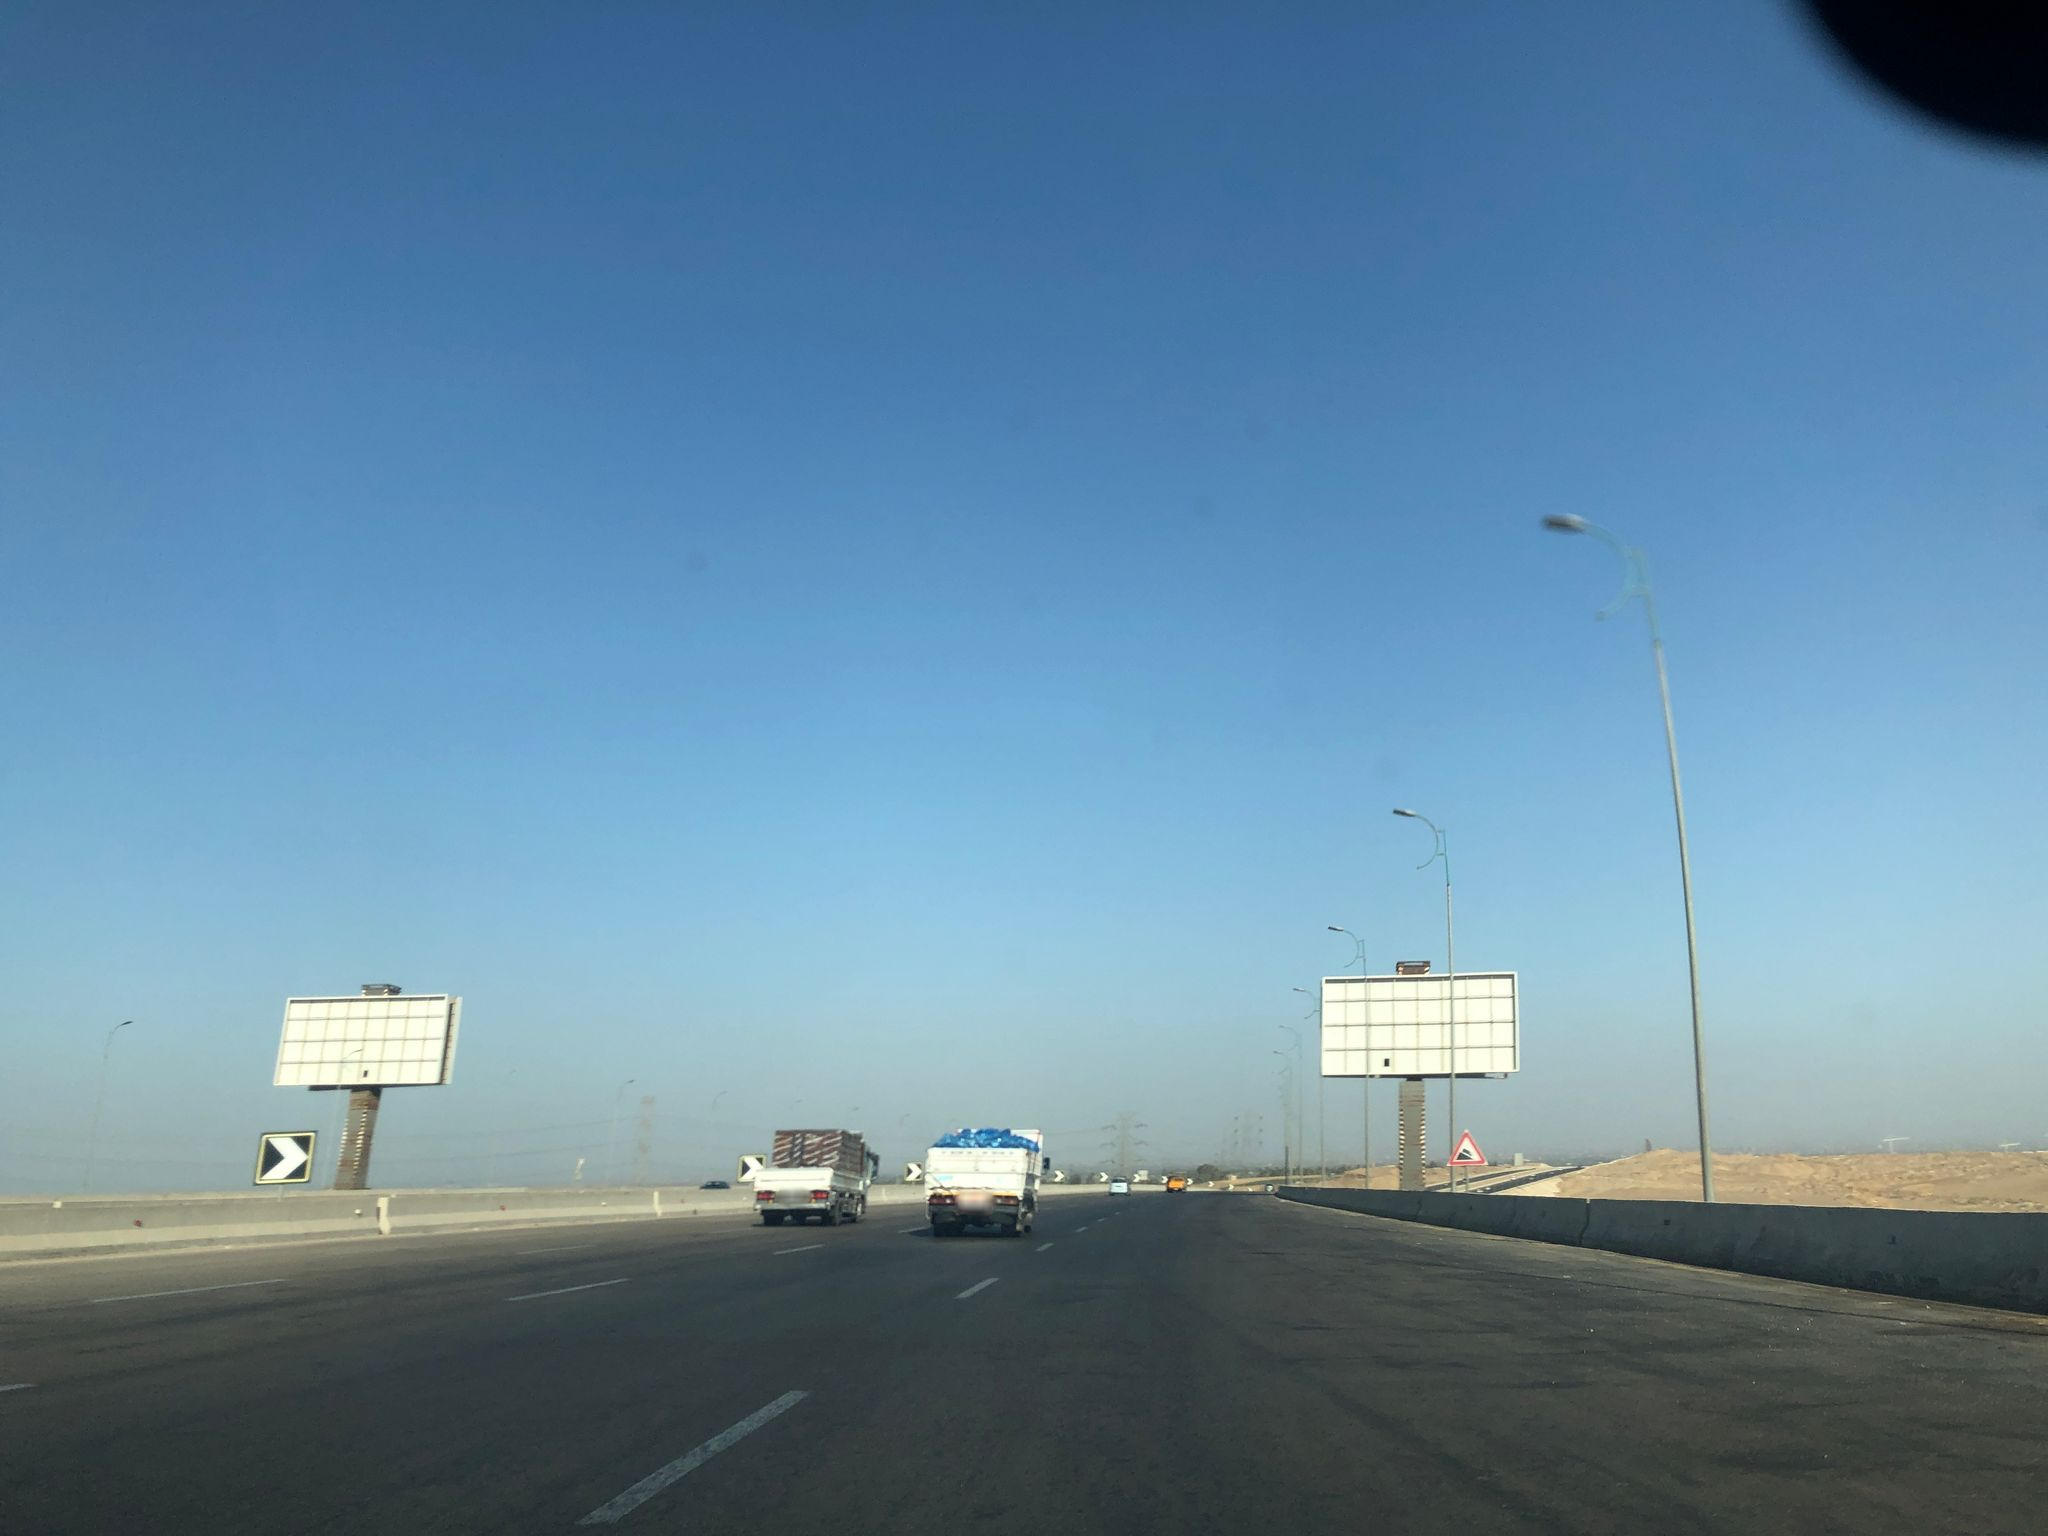car: (1109, 1176, 1130, 1196), (1166, 1175, 1188, 1192)
truck: (922, 1126, 1051, 1234), (751, 1128, 880, 1226)
